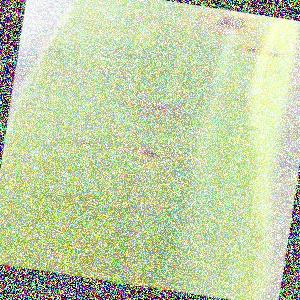Bacterial_Leaf_Blight: (213, 11, 250, 35), (144, 99, 177, 119), (138, 145, 168, 162), (2, 150, 31, 161), (0, 167, 15, 184), (40, 243, 62, 254), (238, 122, 260, 133), (242, 43, 262, 55), (53, 225, 73, 237), (122, 171, 146, 181), (264, 48, 282, 61), (77, 260, 100, 270), (147, 263, 168, 273), (181, 125, 202, 135), (173, 264, 195, 273), (78, 138, 97, 148), (232, 92, 249, 103), (143, 209, 163, 218), (66, 52, 83, 61), (100, 271, 119, 279), (23, 228, 38, 238), (47, 69, 65, 77), (217, 146, 234, 154), (10, 238, 27, 246), (131, 102, 146, 111), (100, 52, 115, 61), (53, 24, 66, 34), (4, 139, 20, 147), (113, 156, 127, 165), (33, 91, 46, 100), (208, 116, 221, 125), (167, 72, 180, 81), (95, 246, 110, 253), (269, 68, 284, 75), (42, 141, 55, 149), (47, 47, 60, 55), (128, 145, 142, 152), (217, 69, 229, 77), (72, 96, 85, 103), (101, 65, 113, 72), (21, 104, 33, 111), (102, 75, 112, 83), (25, 86, 36, 93), (123, 80, 135, 86), (193, 4, 203, 11), (215, 102, 225, 109), (83, 62, 94, 68), (55, 91, 68, 96), (111, 64, 119, 71), (77, 20, 84, 25)
